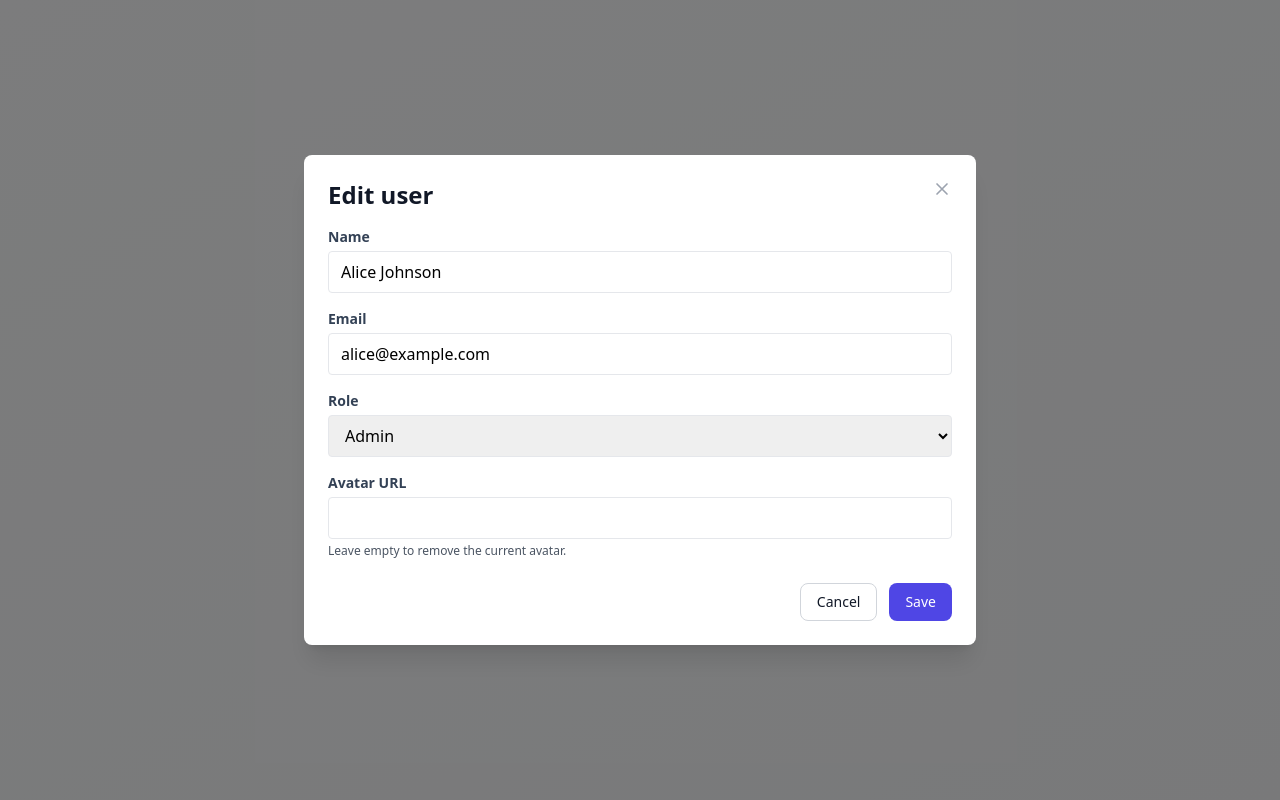
EditUserDialog › blocks the request and reports the problem for a client-invalid email
Replace the text in the field labelled "Email" with "alice@localhost" at {"x": 640, "y": 354}, box [328,333,952,375]
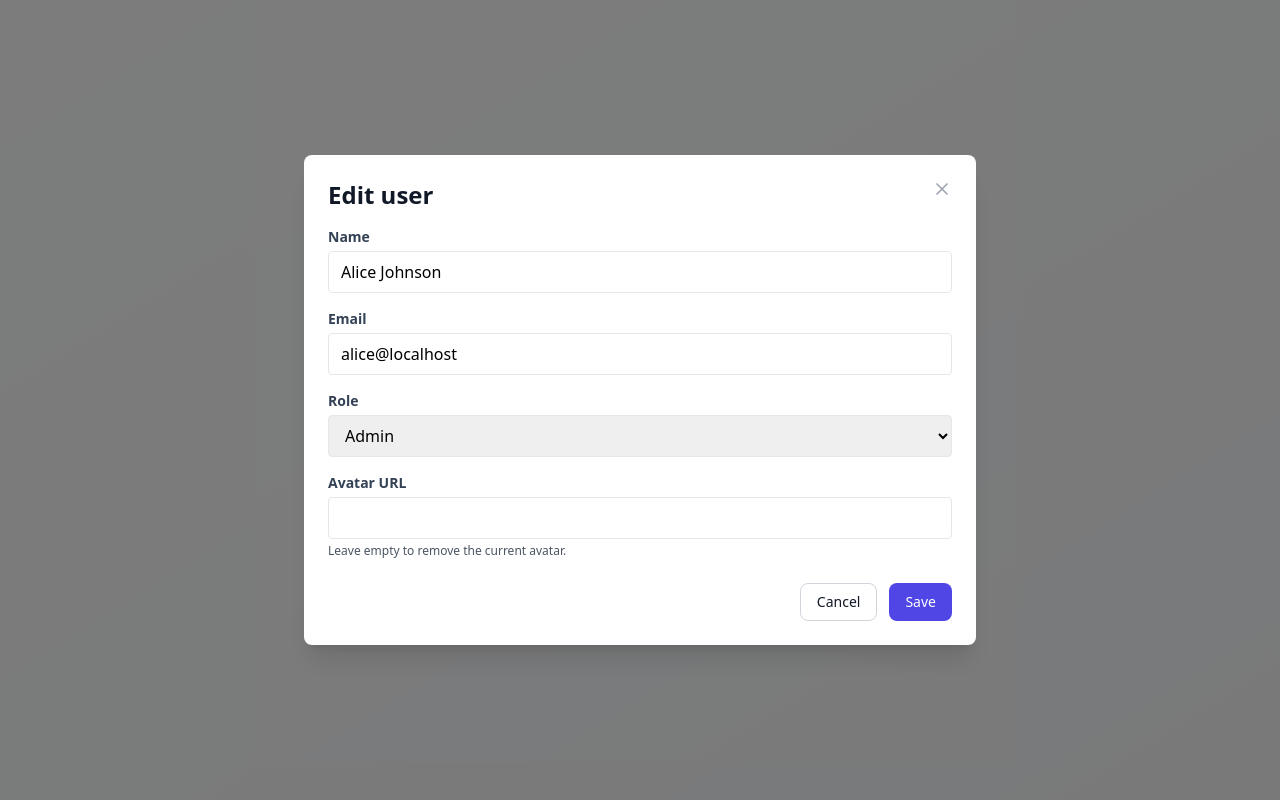
Click the button "Save".
click(921, 602)  # box [889,583,952,621]
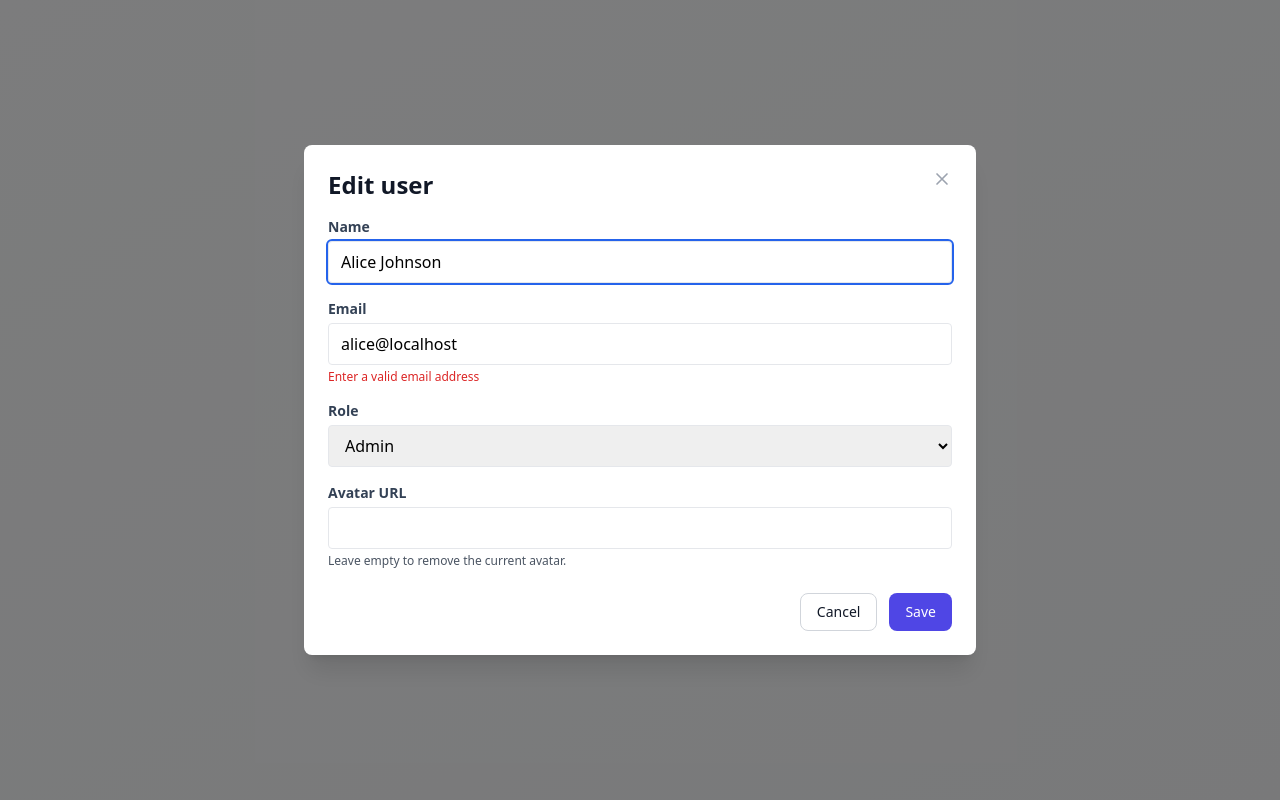
Check: the text "Enter a valid email address" is shown, box [328,368,479,385]
